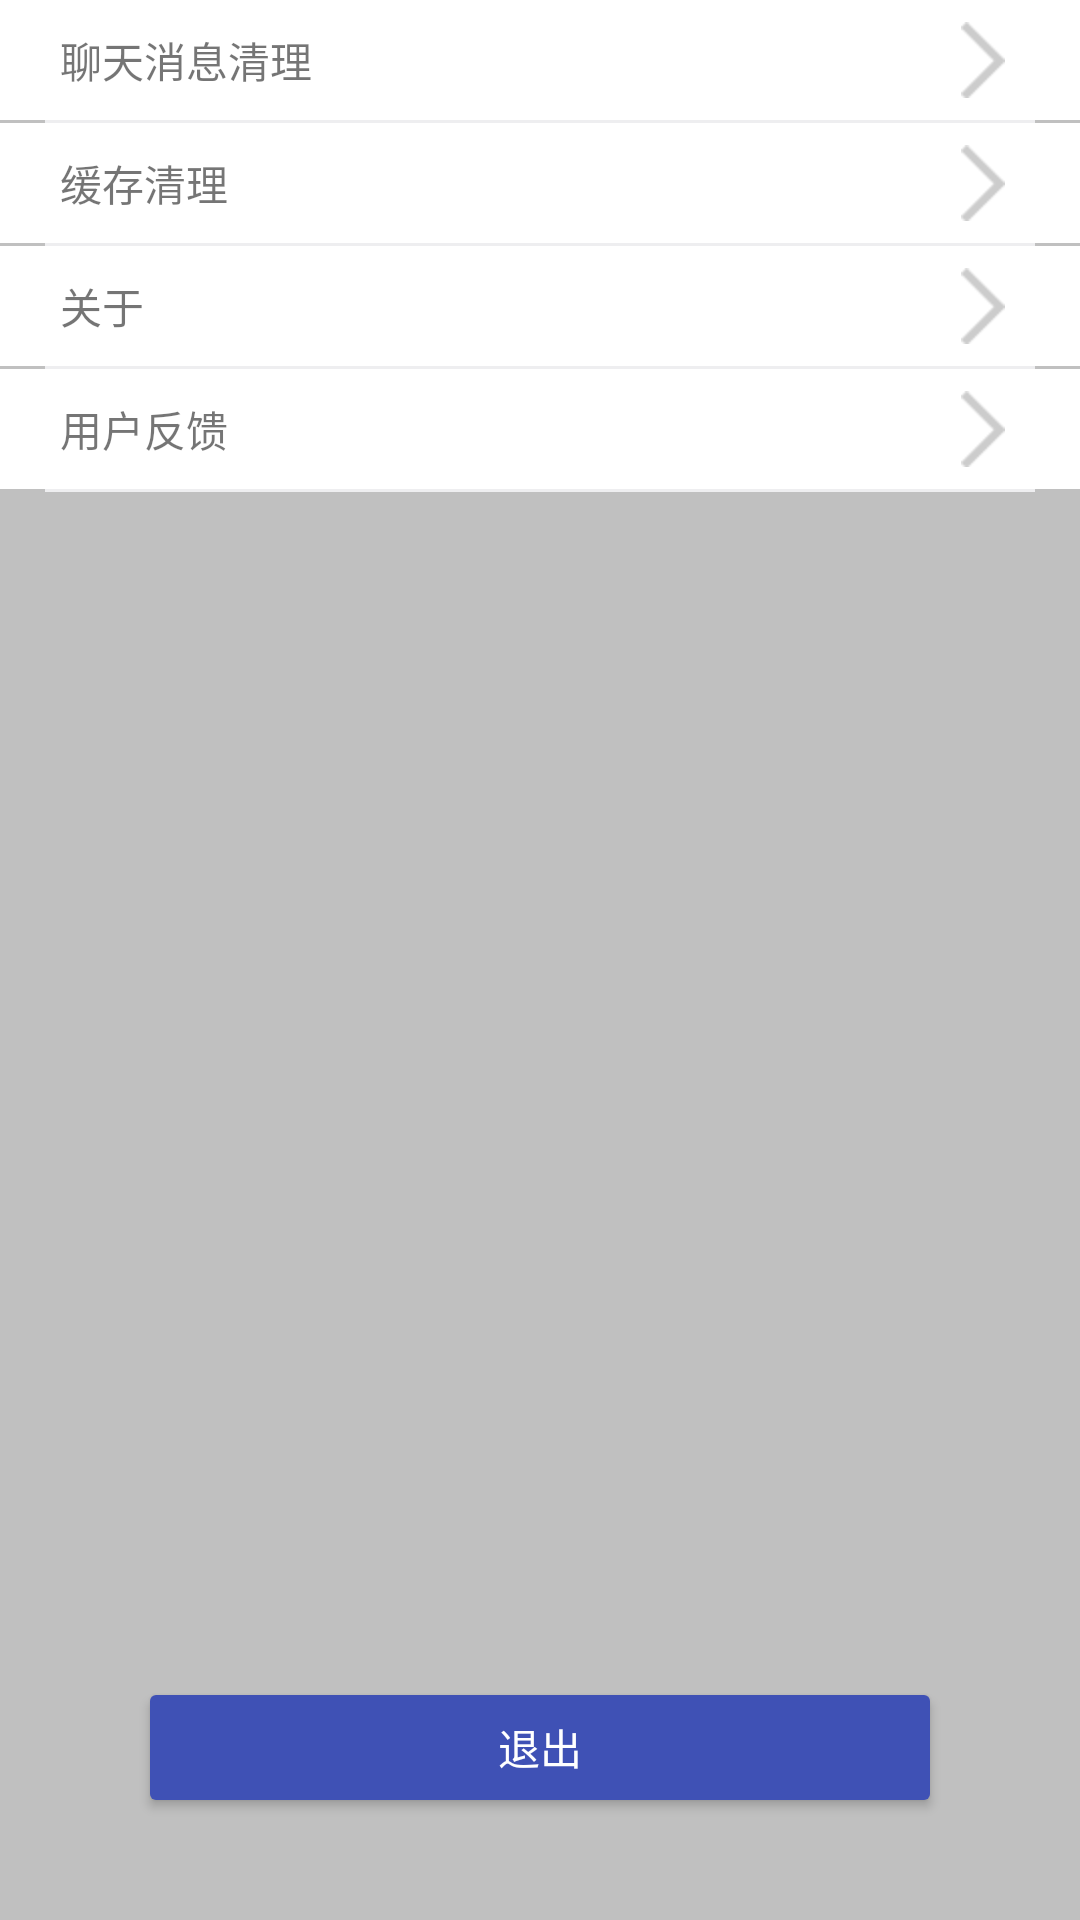

Named icons in this screenshot (1080*1920) and their centers, point (x, y):
arrow blc: point (983, 60), point (983, 183), point (983, 306), point (983, 429)
